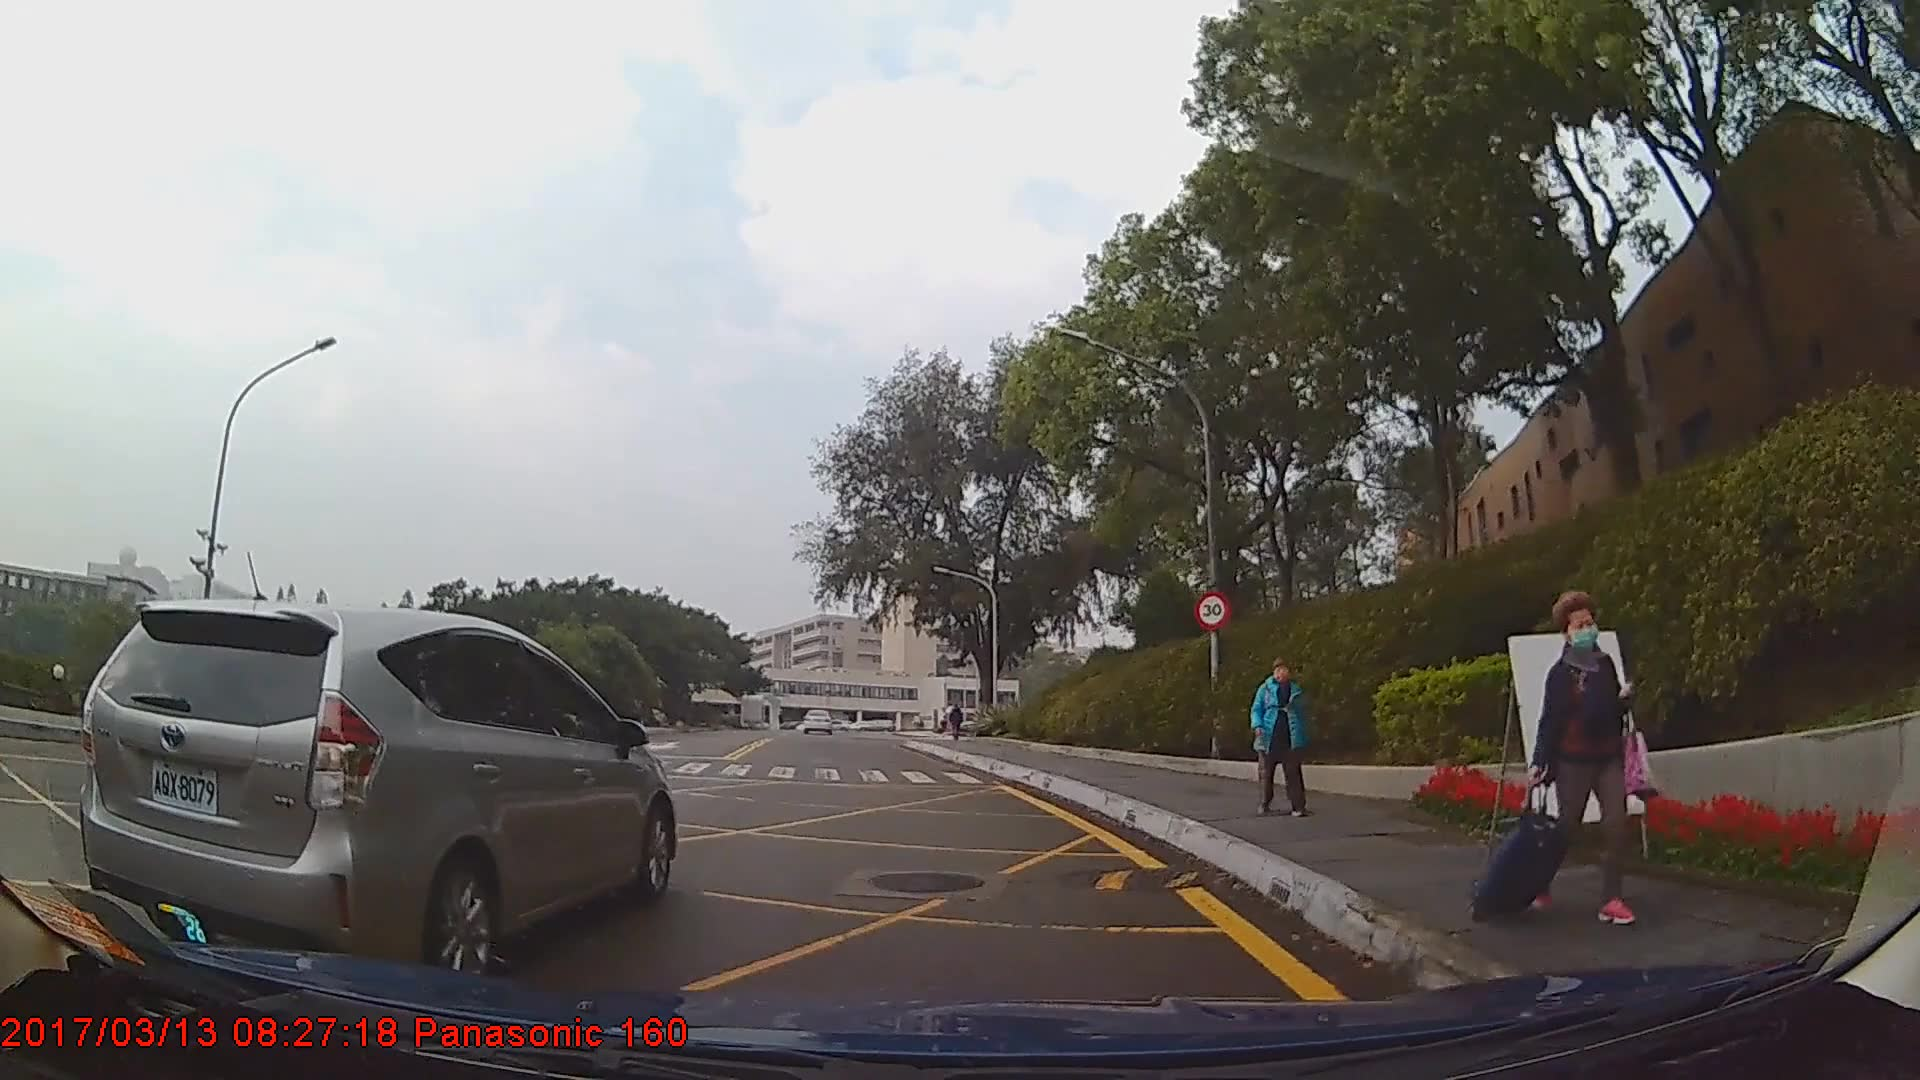pedestrian: (1465, 586, 1665, 938), (1250, 657, 1312, 817)
vehicle: (76, 595, 676, 979), (799, 708, 833, 735)
